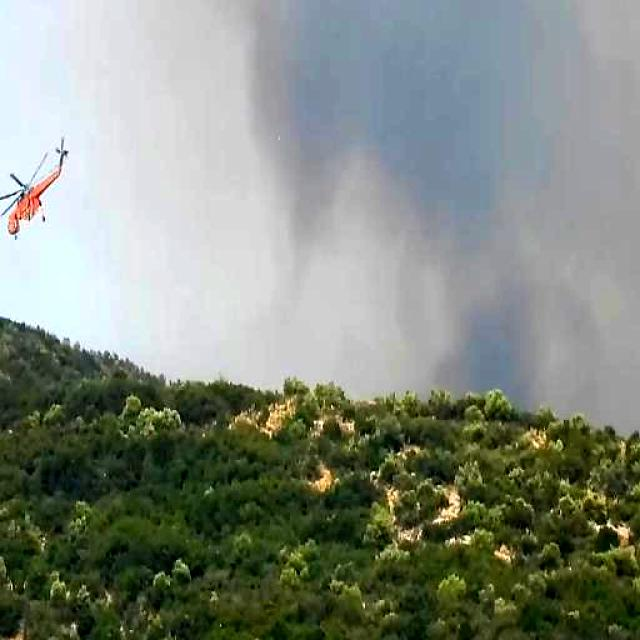drone: (0, 135, 71, 244)
